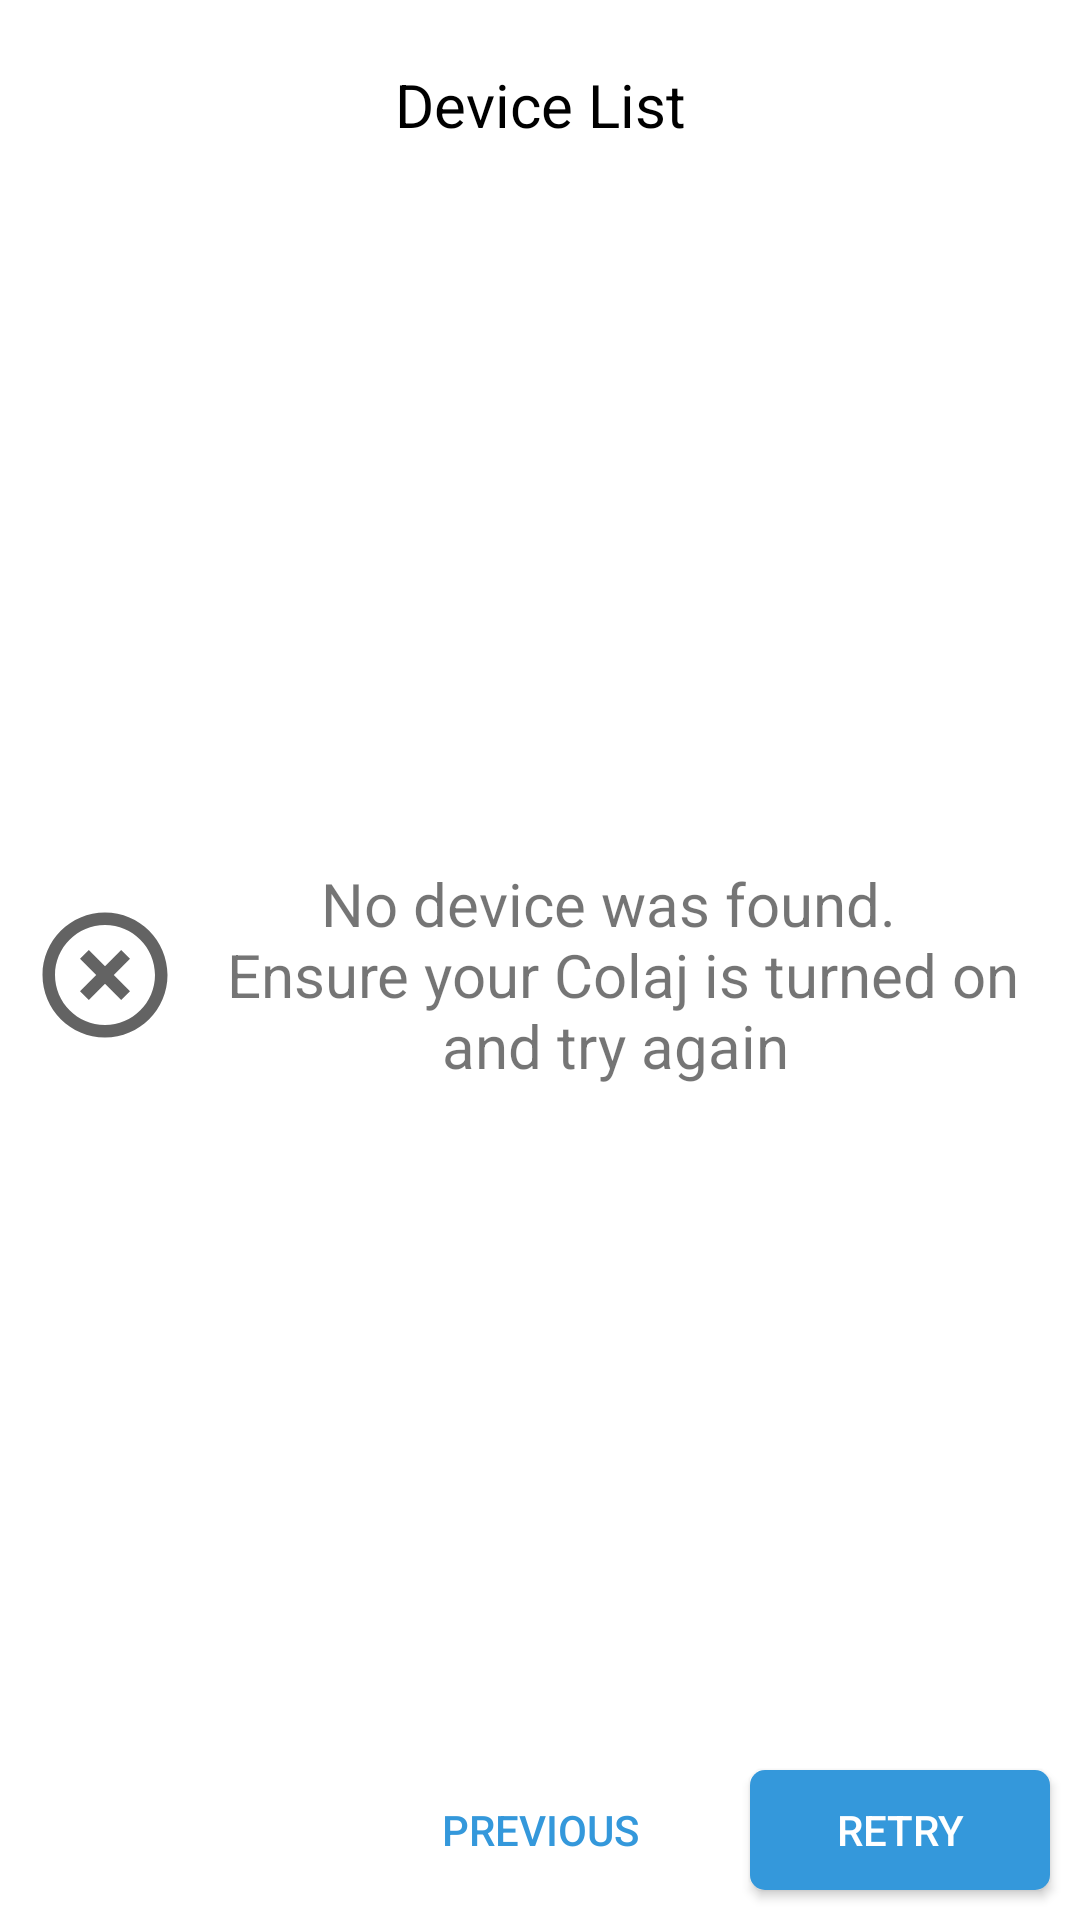

Icons on this 1080×1920 Android screen, each with the point to tap as (x=x, y=y):
highlight off: (x=105, y=975)
